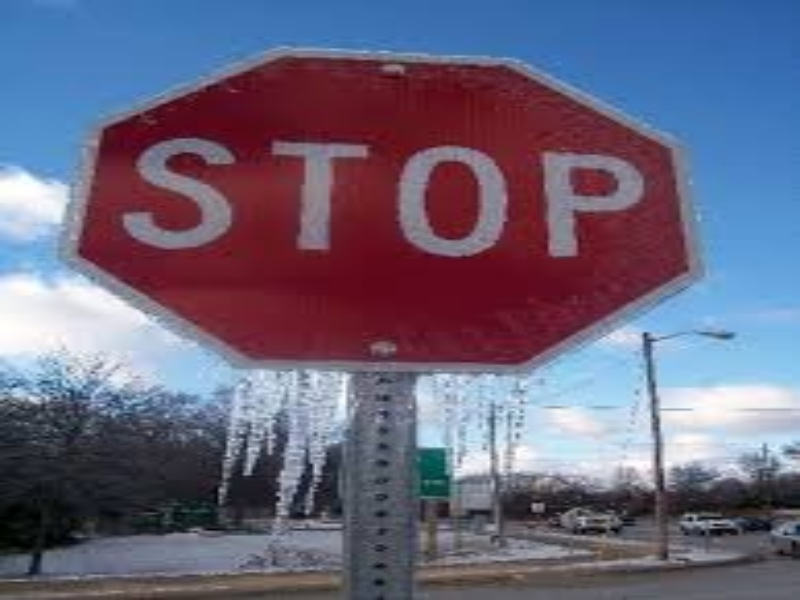Stop_Sign: (57, 44, 707, 374)
